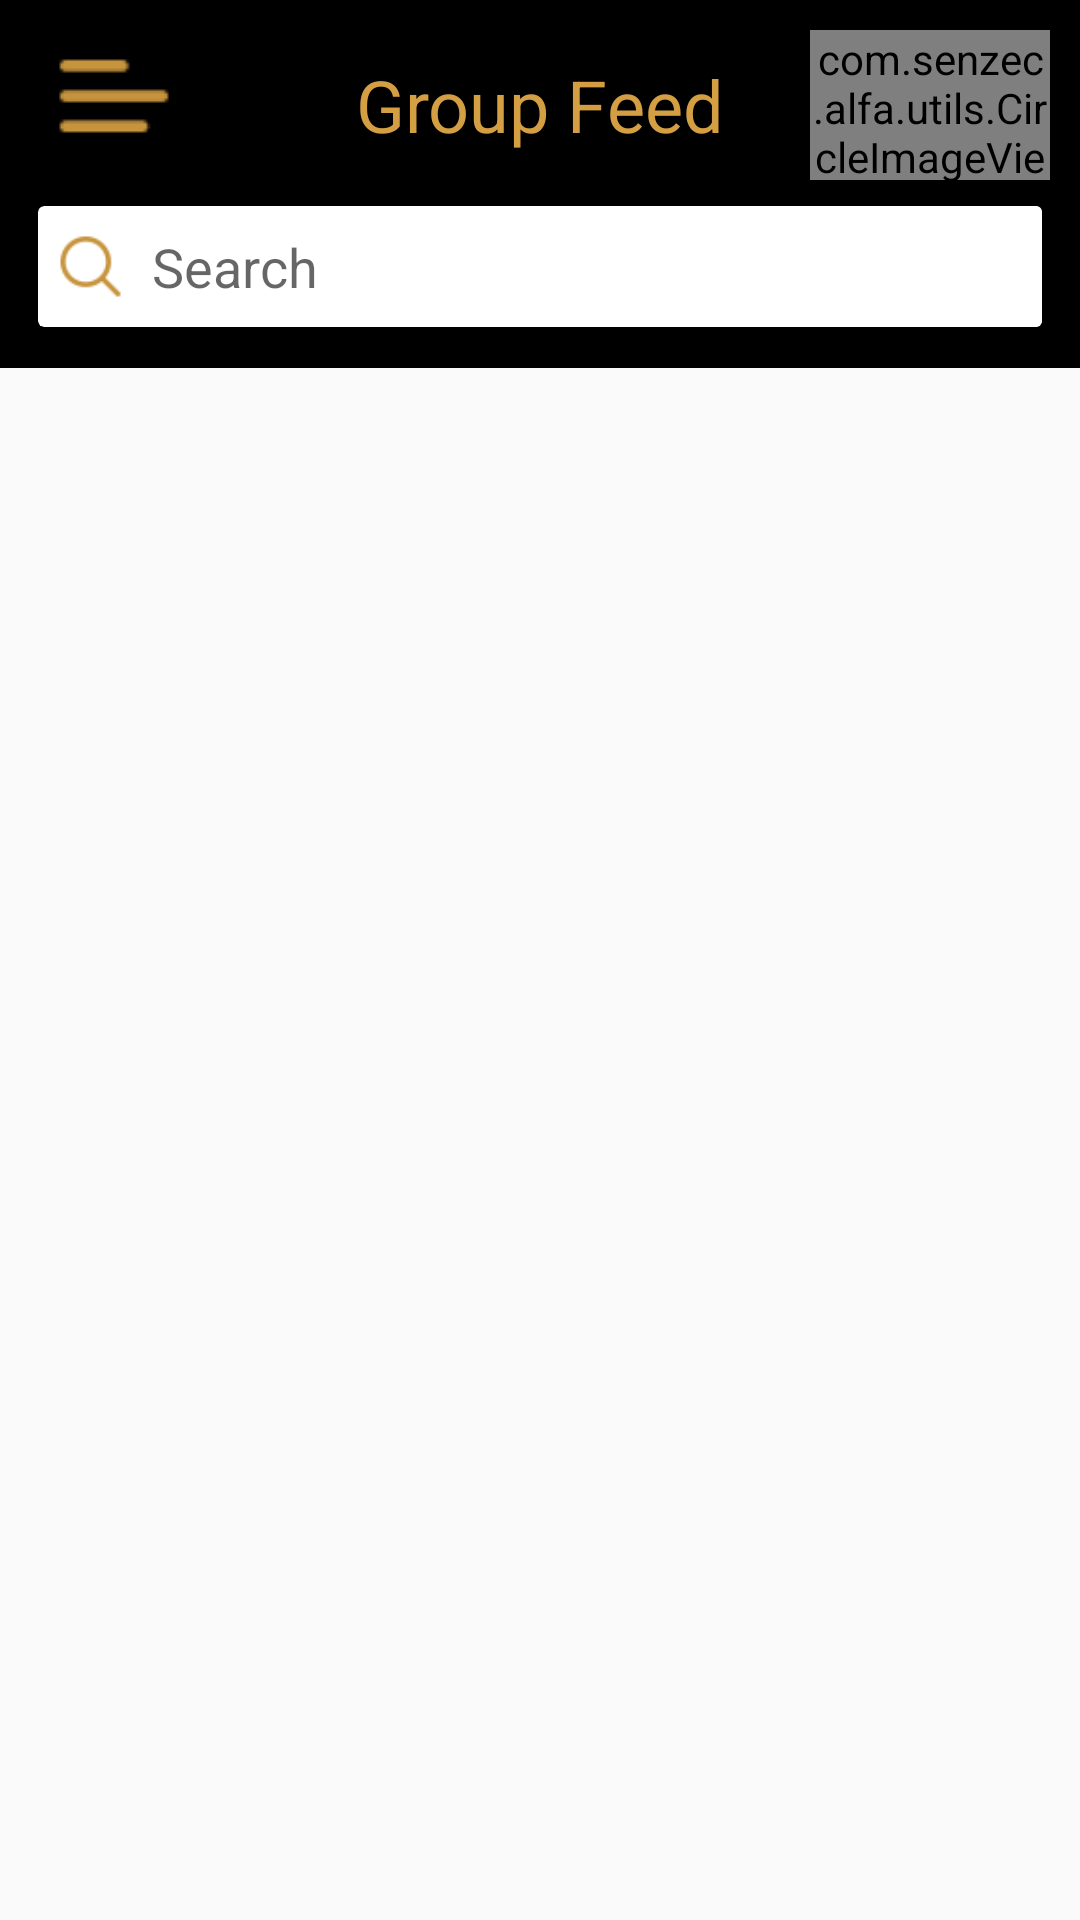

Icons on this 1080 × 1920 Android screen, each with the point to tap as [x,y]:
menu: [114,96]
